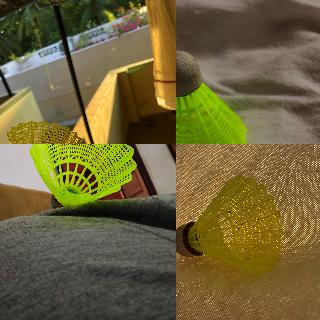shuttlecock: (176, 175, 283, 275), (28, 144, 137, 209), (176, 50, 247, 143), (7, 121, 82, 143)
